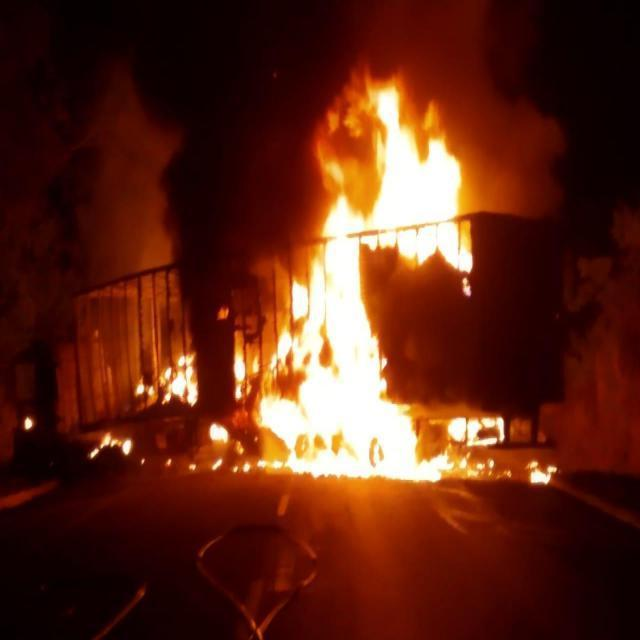Fire: (262, 80, 474, 472), (92, 315, 250, 470), (476, 396, 562, 484)
Smoke: (0, 6, 248, 306), (493, 0, 640, 211)
